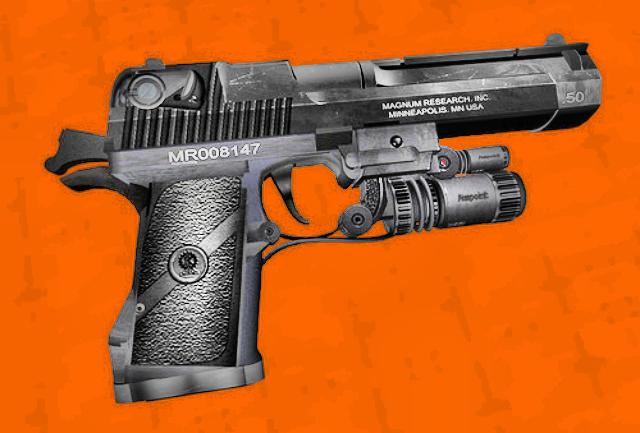pistol: (42, 32, 600, 404)
